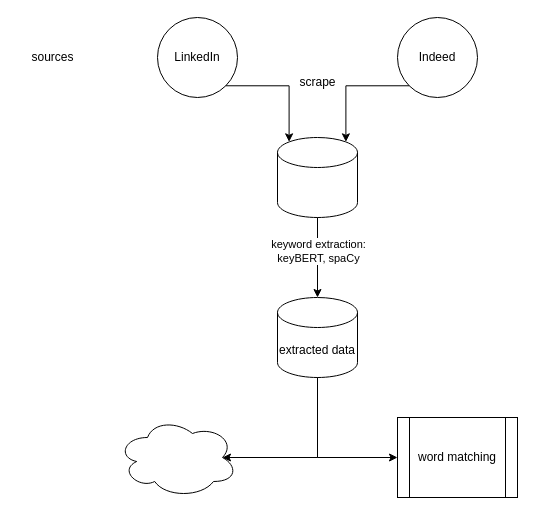
Some shapes in this 535 by 515 pixel diagram are drawn without their labels. Here are the shapes that lost their labels. From the top down, the centre of each, then its label:
At pixel 317 177: "processed data".
At pixel 177 457: "word cloud".
